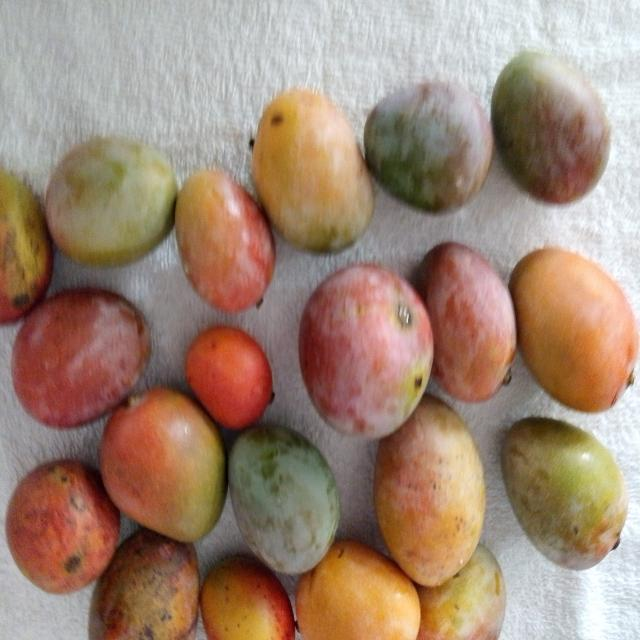mango: (299, 266, 433, 441), (250, 85, 376, 260), (511, 244, 640, 414), (100, 386, 227, 547), (502, 416, 628, 572), (42, 133, 177, 269), (420, 242, 518, 403), (174, 166, 274, 320), (292, 539, 418, 640), (185, 324, 280, 428)
